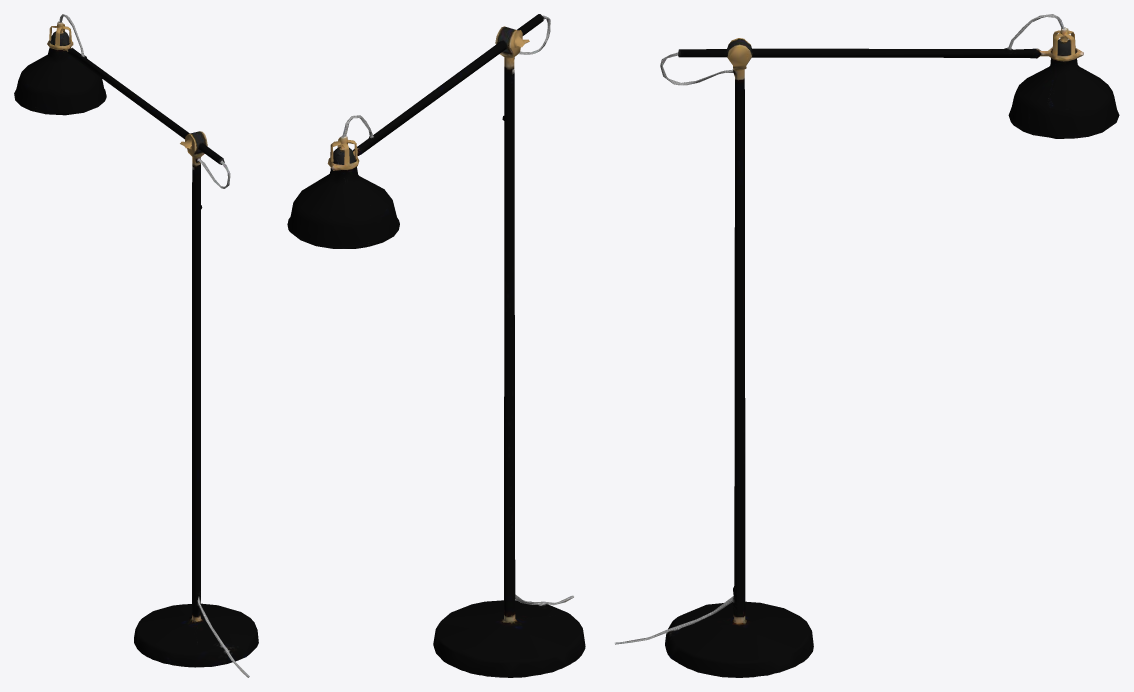
File: a4994otflpp3.glb
3 views of the same model, side by side, from view 1: azimuth 30°, elevation 25°; view 2: azimuth 150°, elevation 25°; view 3: azimuth 270°, elevation 25° (orthographic). The views are drawn at different scales.
Visible parts, largest first — view 1: ProcessedMeshNode; view 2: ProcessedMeshNode; view 3: ProcessedMeshNode.
Boxes of the visible parts, <box> form: ProcessedMeshNode: <box>14,14,258,677</box>; ProcessedMeshNode: <box>287,14,585,677</box>; ProcessedMeshNode: <box>614,14,1119,677</box>.
Size of the model in its own units: 0.2801 by 1.32 by 0.9504.
1 material, 1 textured.
